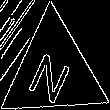N_NE: (27, 40, 79, 102)
